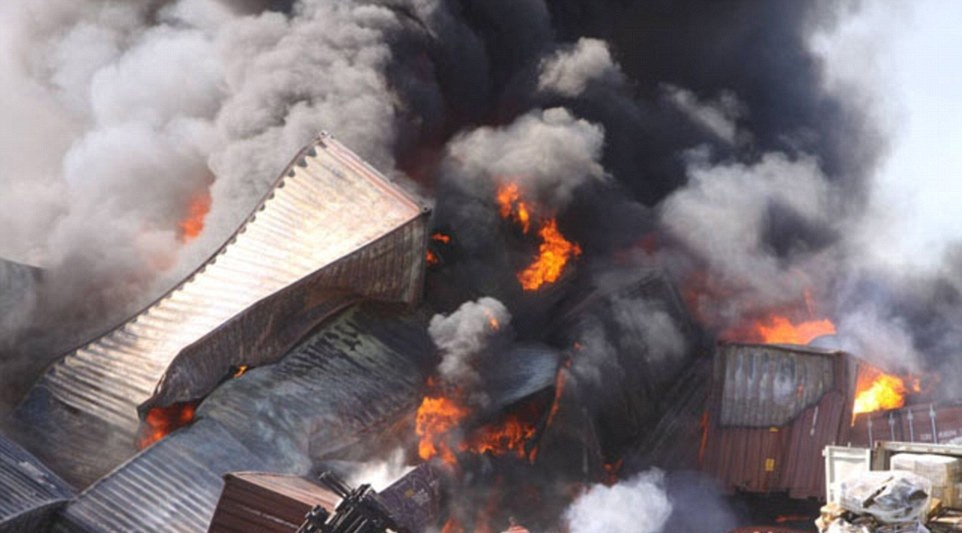fire: (410, 388, 537, 461), (502, 183, 578, 289), (751, 311, 834, 345), (850, 366, 910, 413)
